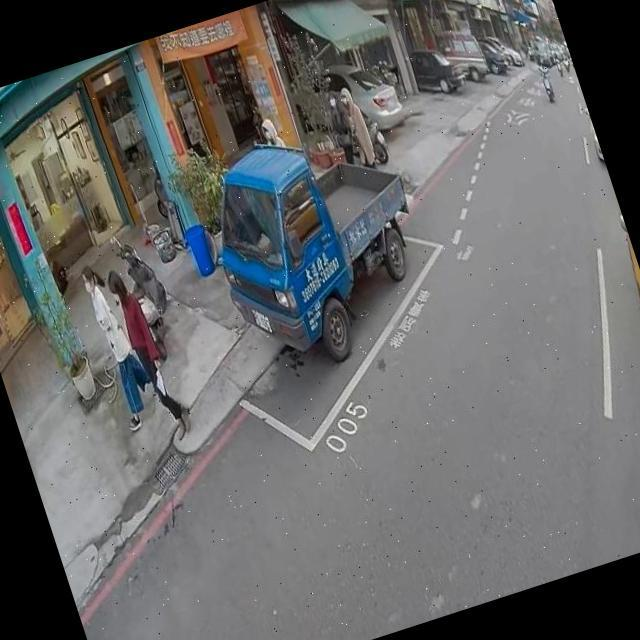person: (99, 260, 202, 448), (78, 262, 162, 431), (334, 84, 380, 172), (320, 85, 366, 169), (256, 111, 289, 160), (534, 55, 549, 78)
